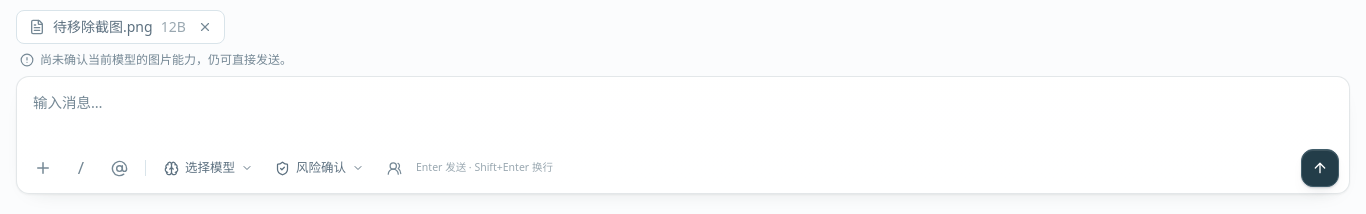
it: InputArea › releases a staged clipboard image when the user removes it from the draft
Check: the text "待移除截图.png" is shown, box x1=53 y1=17 x2=153 y2=37
Click the button named "移除附件". click: (205, 27)
box: x1=198 y1=20 x2=212 y2=34
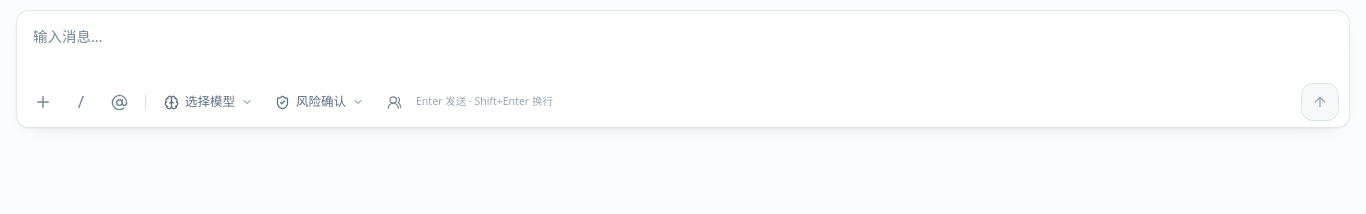
Check: the text "待移除截图.png" is gone
